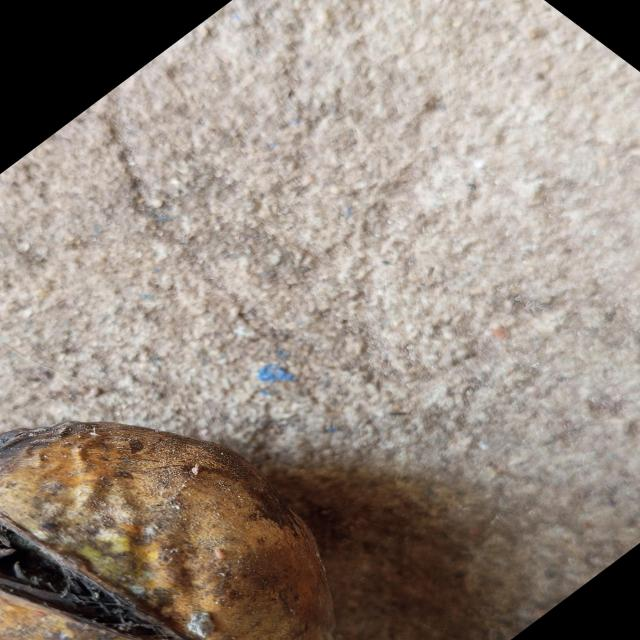damaged: (0, 422, 334, 640)
